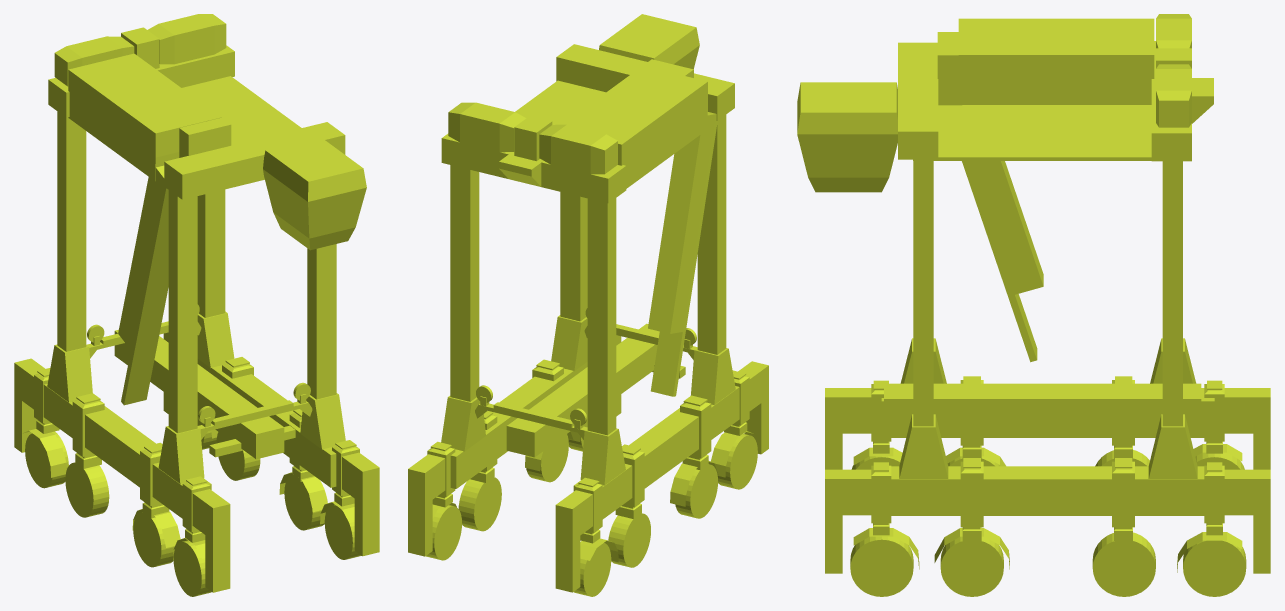
File: blockoutStraddleCarrier.fbx
The picture shows the model from 3 angles, left to right: view 1: azimuth 30°, elevation 25°; view 2: azimuth 150°, elevation 25°; view 3: azimuth 270°, elevation 25°; orthographic projection. The views are drawn at different scales.
Parts seen in each view (by area): view 1: Joint blocked; view 2: Joint blocked; view 3: Joint blocked.
Part boxes in pixels (<box>): Joint blocked: <box>14,14,379,596</box>; Joint blocked: <box>408,14,768,596</box>; Joint blocked: <box>797,14,1270,596</box>.
Size of the model in its own units: 535 by 1283 by 1109.
